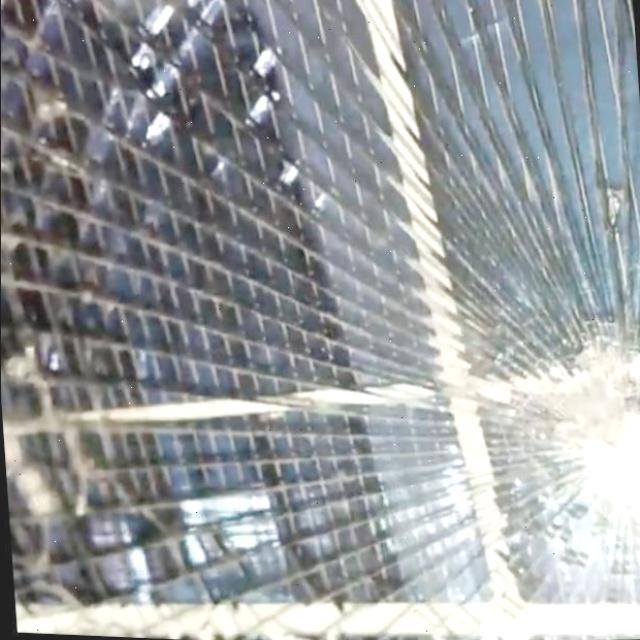Structural Damage: (345, 180, 640, 634)
